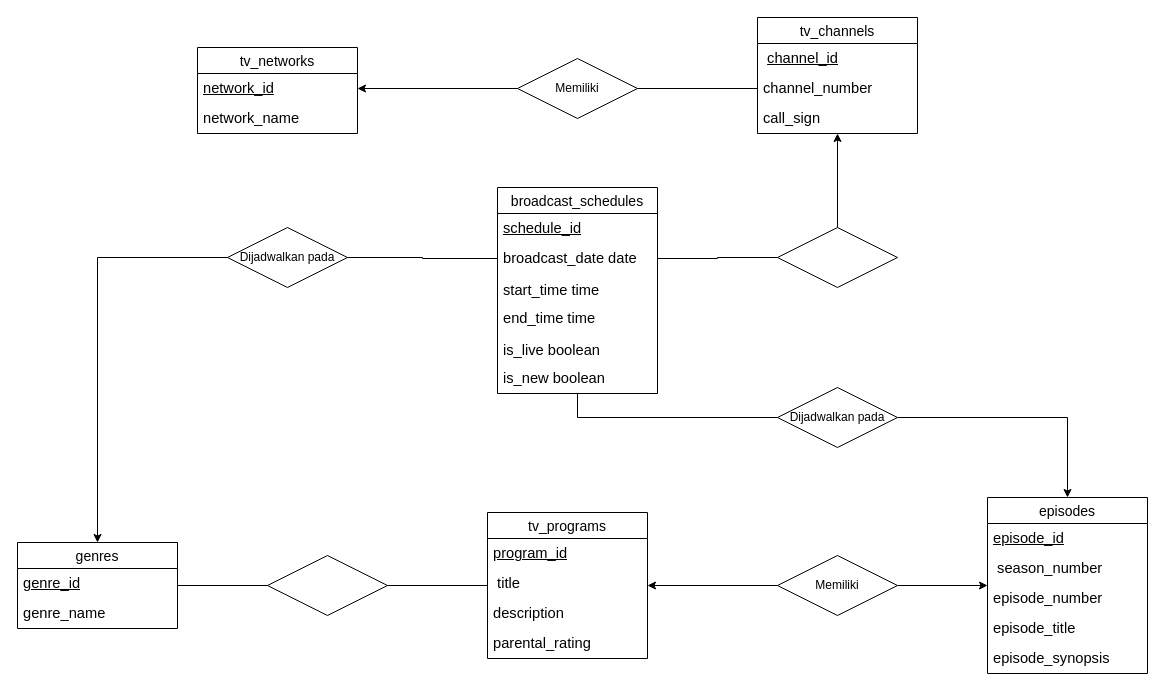
The diagram is 1165 pixels wide and 694 high, and some of its shapes have lost their labels. Each missing label, with the centre of its shape:
Dikelompokkan: point 327,585
Menyiarkan: point 837,257
